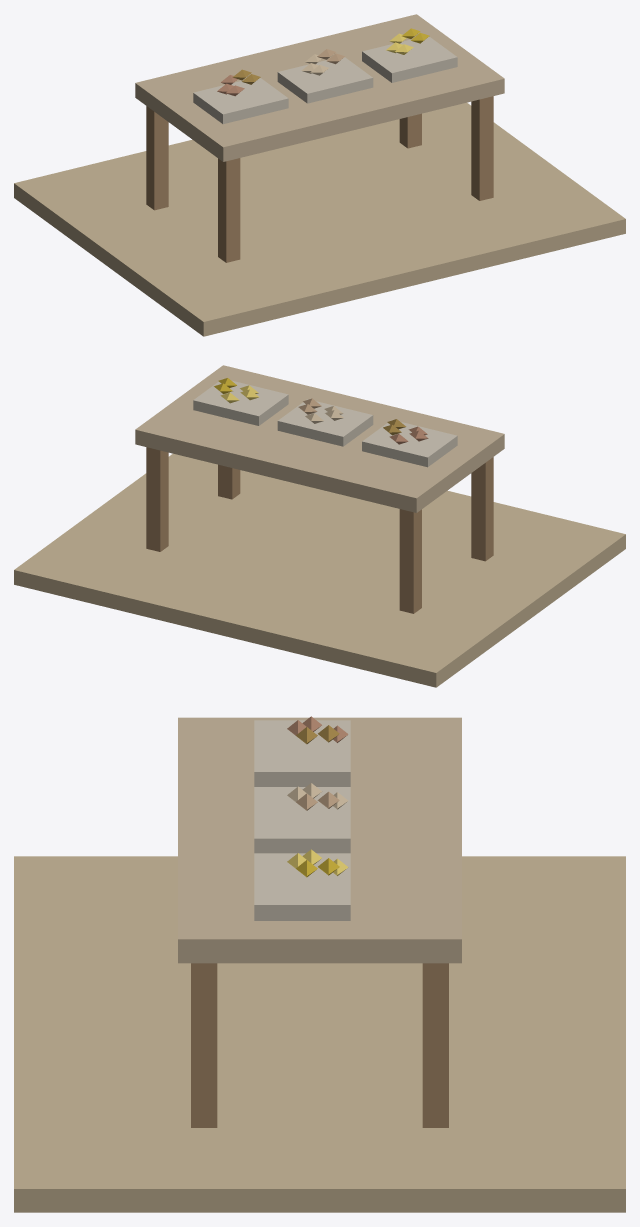
Rendered from cacao_estacion_04_seleccion.glb.
The picture shows the model from 3 angles, top to bottom: view 1: azimuth 30°, elevation 25°; view 2: azimuth 150°, elevation 25°; view 3: azimuth 270°, elevation 25°; orthographic projection. The views are drawn at different scales.
Parts seen in each view (by area): view 1: model; view 2: model; view 3: model.
Part boxes in pixels (bbox=[...]): model: bbox=[14, 14, 625, 336]; model: bbox=[14, 365, 625, 687]; model: bbox=[14, 716, 625, 1212].
Bounding box in the file's own units: 1.8 × 0.6624 × 1.4.
